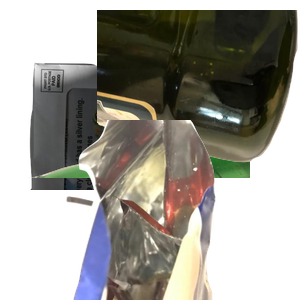glass: (23, 120, 263, 300)
paper: (27, 60, 223, 240)
plastic: (97, 10, 300, 165)
trash: (63, 120, 300, 300)
